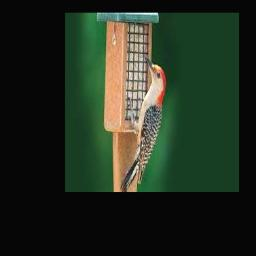Woodpecker: (121, 54, 166, 190)
